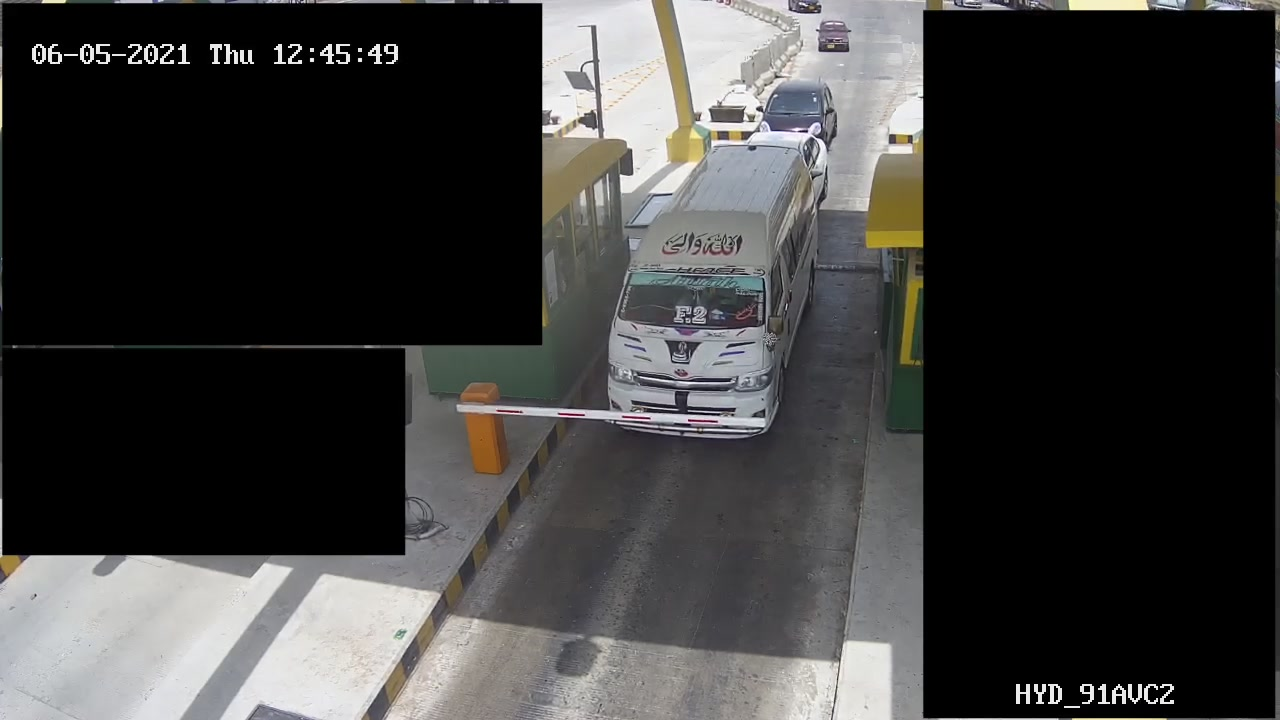F2: (598, 138, 824, 444)
